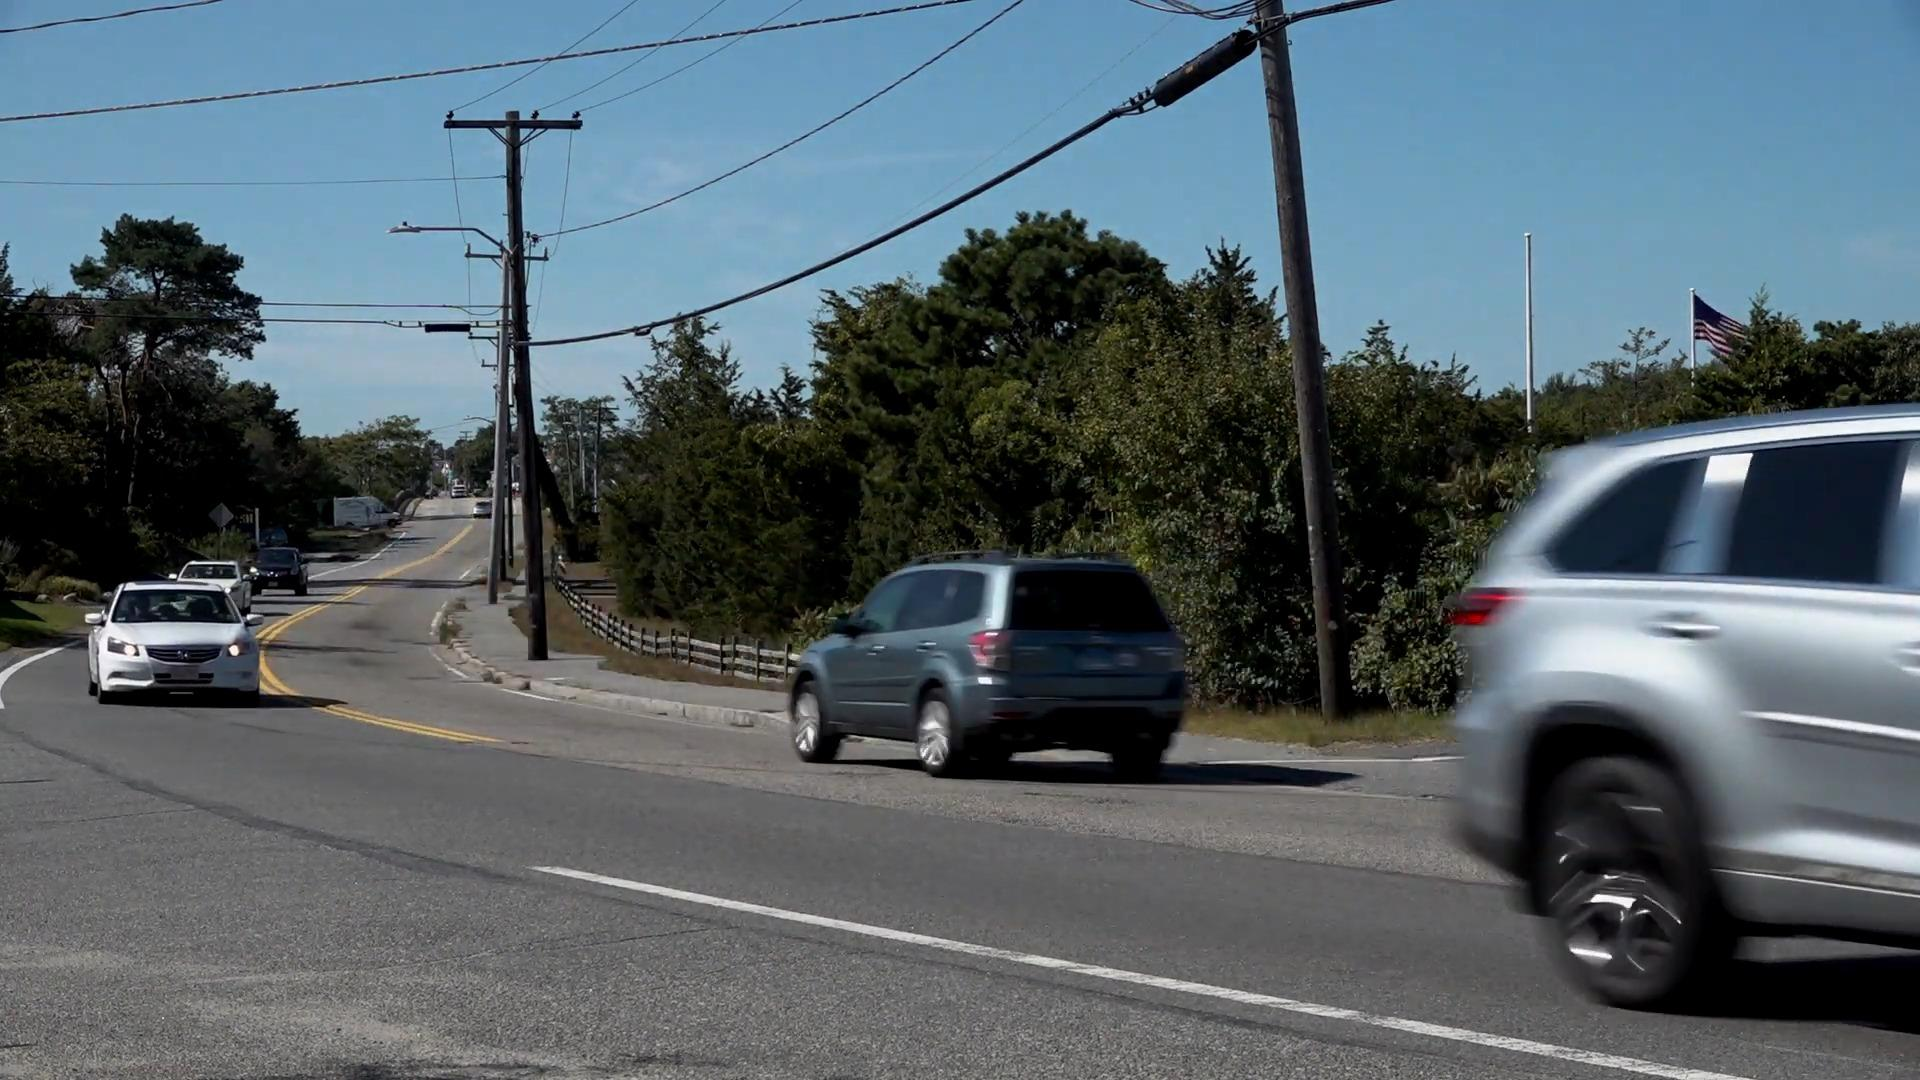sedans: (86, 583, 262, 702)
suv: (1445, 407, 1920, 1010), (785, 556, 1192, 774)
